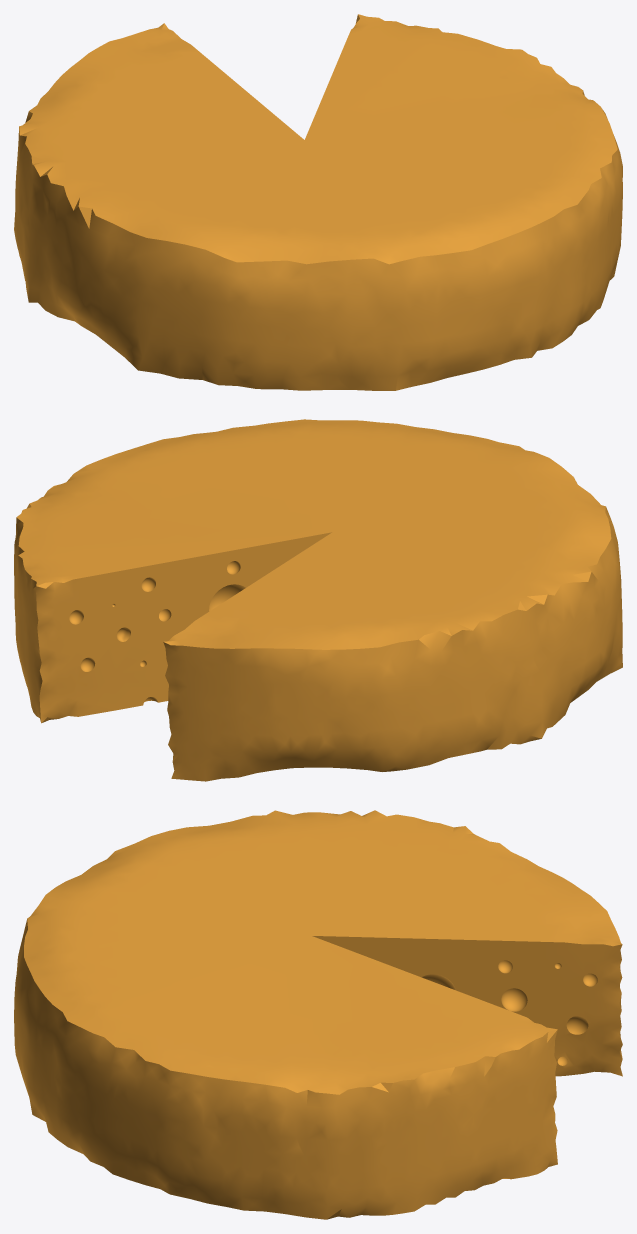
File: RealCheese2.glb
3 views of the same model, one above another, from view 1: azimuth 30°, elevation 25°; view 2: azimuth 150°, elevation 25°; view 3: azimuth 270°, elevation 25° (orthographic).
Parts seen in each view (by area): view 1: Plane; view 2: Plane; view 3: Plane.
Boxes of the visible parts, left/top/right/bottom form: Plane: left=14, top=14, right=622, bottom=390; Plane: left=14, top=419, right=622, bottom=781; Plane: left=14, top=810, right=622, bottom=1219.
Size of the model in its own units: 5.5 by 1.55 by 5.42.
